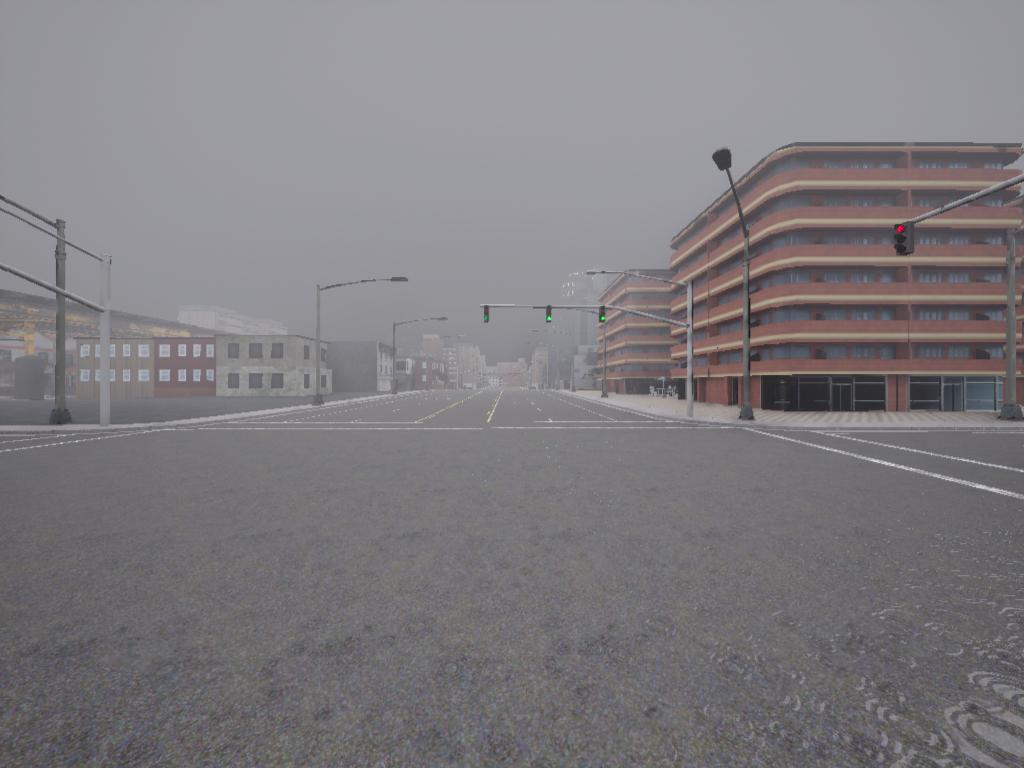traffic_light: (893, 224, 914, 258), (482, 307, 492, 328), (600, 309, 611, 325), (546, 311, 556, 326)
